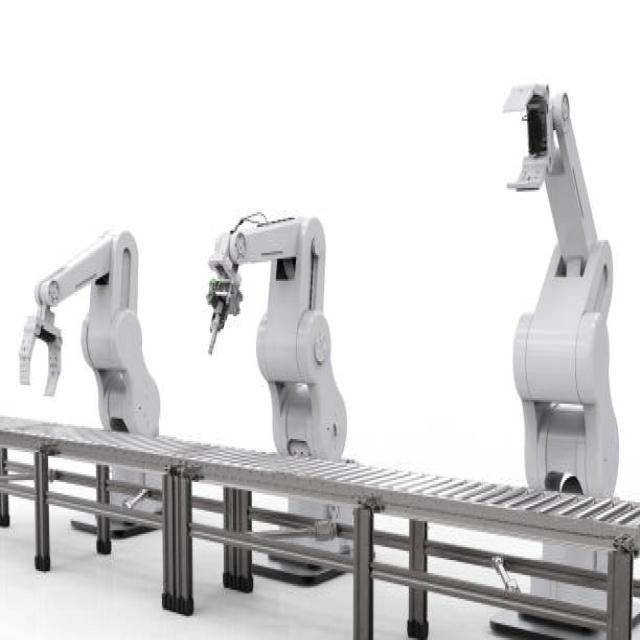Robotic-arm: (488, 69, 623, 501), (197, 200, 352, 466), (12, 219, 164, 451)
